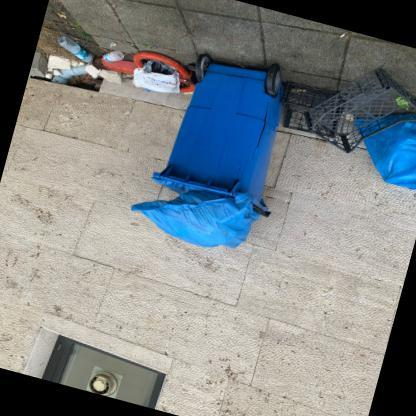Garbage: (121, 176, 268, 262), (121, 176, 260, 262), (344, 96, 415, 197), (122, 57, 188, 101), (48, 28, 94, 64), (91, 42, 131, 66)
